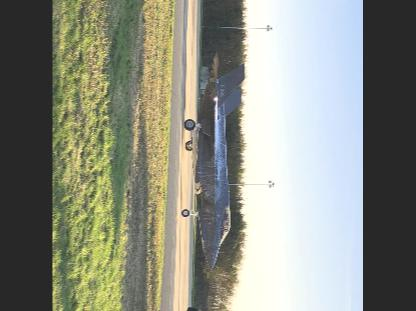F22: (182, 48, 245, 268)
